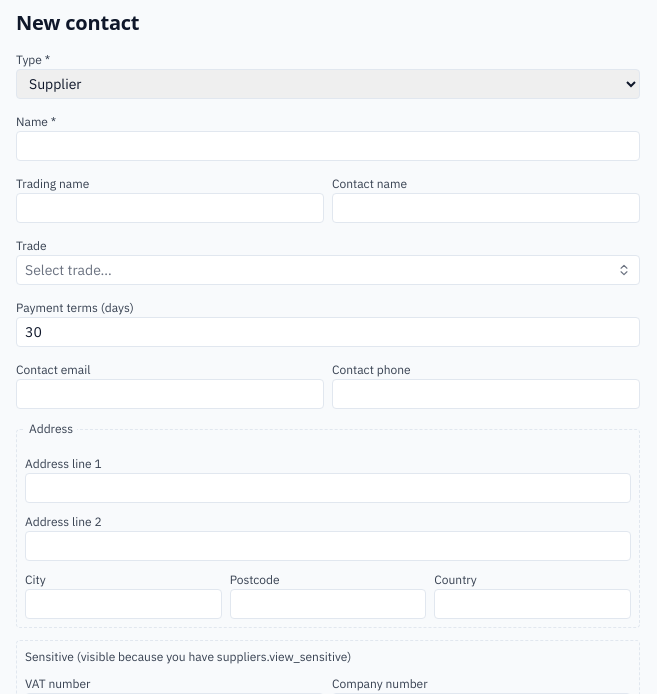
Test: SupplierForm — Contractor sub-block (Chat 41 §R3.4) › Contractor block appears when type=Contractor (CIS registered + UTR)
Select "Contractor" in the dropdown with test id "supplier-form-type": (328, 84) [16,69,640,99]
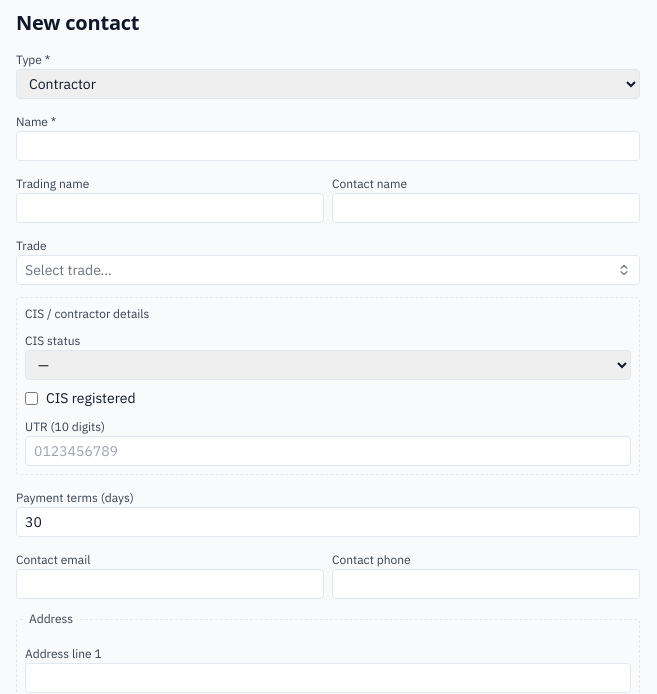
Result: the element with test id "supplier-form-contractor-block" is shown at [16,297,640,475]
Result: the checkbox with test id "supplier-form-cis-registered" is shown at [25,392,38,404]
Result: the field with test id "supplier-form-utr" is shown at [25,436,631,466]
